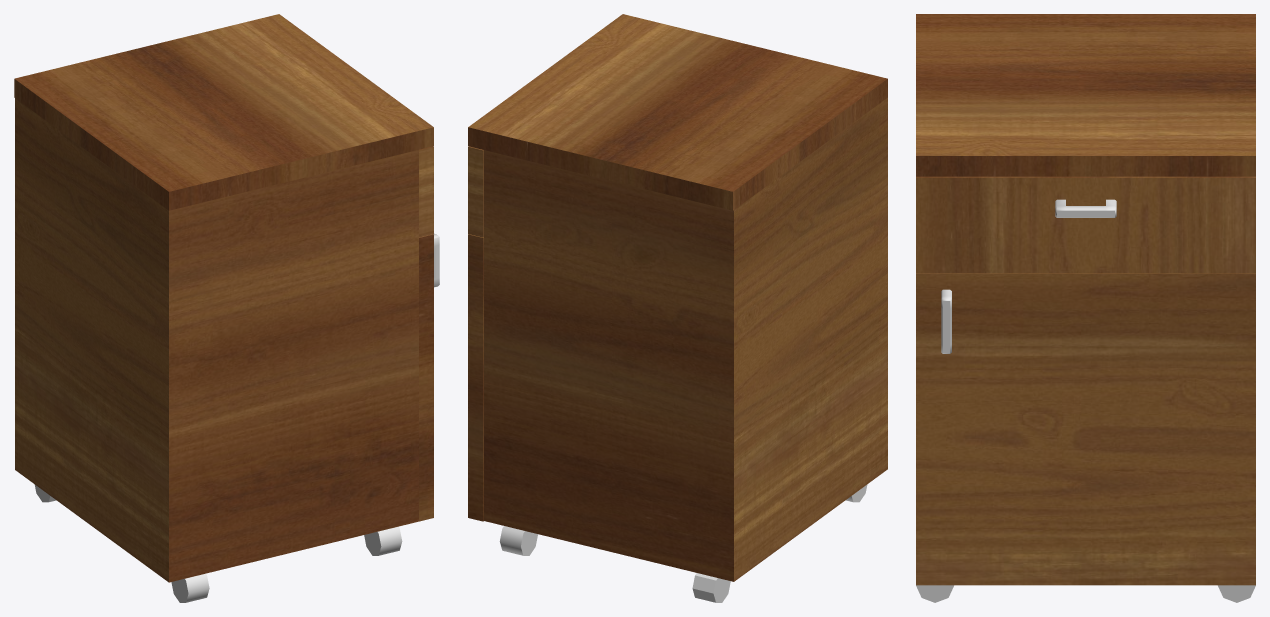
Rendered from Wagon.dae.
3 renders of one model, left to right at view 1: azimuth 30°, elevation 25°; view 2: azimuth 150°, elevation 25°; view 3: azimuth 270°, elevation 25°, orthographic. The views are drawn at different scales.
Visible parts, largest first — view 1: Wagon; view 2: Wagon; view 3: Wagon.
Boxes of the visible parts, x1,y1,x2,y2 form: Wagon: [14, 14, 439, 602]; Wagon: [468, 14, 887, 602]; Wagon: [916, 14, 1255, 602].
Size of the model in its own units: 0.4699 by 0.445 by 0.67.
Materials: 2 (1 with a texture image).
